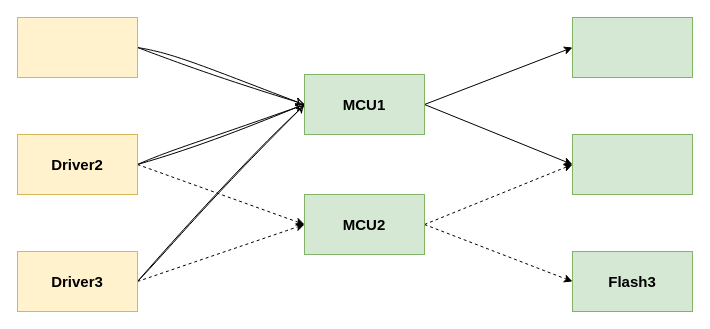
The diagram is 710 pixels wide and 329 high, and some of its shapes have lost their labels. The centre of each missing label's shape, as x and y in pixels:
Driver1: point 77,47
Flash1: point 632,47
Flash2: point 632,164
